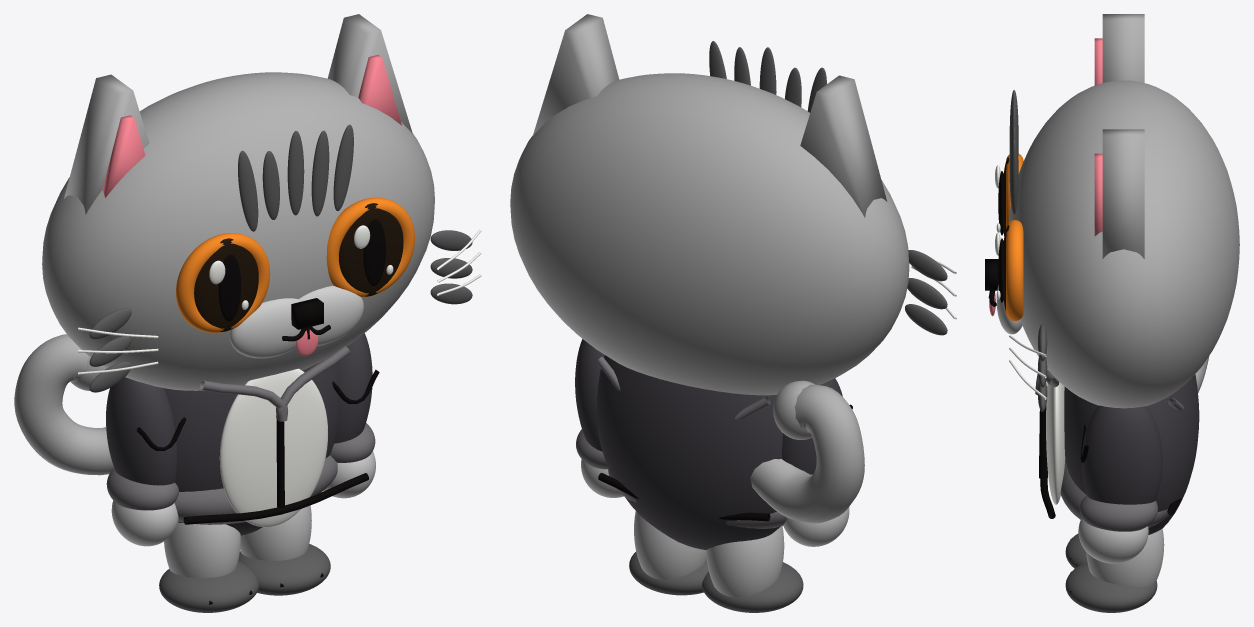
The model's file is IP_cat_from_three_views.glb.
3 views of the same model, side by side, from view 1: azimuth 30°, elevation 25°; view 2: azimuth 150°, elevation 25°; view 3: azimuth 270°, elevation 25° (orthographic). The views are drawn at different scales.
Visible parts, largest first — view 1: Fresh Head, Fresh White Chest, Fresh Tail, Fresh Sweater Body, Fresh L Sleeve, Fresh Left Ear, Fresh L Leg, Fresh Right Ear, Fresh L Foot, Fresh L Amber Eye Ring, Fresh Left Muzzle, Fresh L Eye Dark (+30 smaller); view 2: Fresh Head, Fresh Sweater Body, Fresh Tail, Fresh Left Ear, Fresh Right Ear, Fresh L Leg, Fresh R Leg, Fresh L Foot, Fresh R Sleeve, Fresh R Foot, Fresh L Paw, Fresh Tail Tip (+9 smaller); view 3: Fresh Head, Fresh R Sleeve, Fresh Sweater Body, Fresh Right Ear, Fresh Left Ear, Fresh R Foot, Fresh R Leg, Fresh R Paw, Fresh White Chest, Fresh R Cuff, Fresh R Amber Eye Ring, Fresh Sweater Hem (+9 smaller).
Part boxes in pixels (left/top/right/bottom): Fresh Head: left=42, top=72, right=434, bottom=390; Fresh White Chest: left=219, top=368, right=328, bottom=527; Fresh Tail: left=14, top=334, right=113, bottom=475; Fresh Sweater Body: left=164, top=361, right=338, bottom=535; Fresh L Sleeve: left=106, top=377, right=176, bottom=485; Fresh Left Ear: left=64, top=74, right=149, bottom=214; Fresh L Leg: left=164, top=522, right=240, bottom=578; Fresh Right Ear: left=327, top=14, right=412, bottom=134; Fresh L Foot: left=159, top=561, right=258, bottom=612; Fresh L Amber Eye Ring: left=176, top=233, right=270, bottom=332; Fresh Left Muzzle: left=230, top=298, right=300, bottom=358; Fresh L Eye Dark: left=194, top=238, right=258, bottom=331; Fresh Head: left=510, top=73, right=909, bottom=395; Fresh Sweater Body: left=596, top=355, right=782, bottom=549; Fresh Tail: left=750, top=384, right=864, bottom=523; Fresh Left Ear: left=800, top=75, right=887, bottom=217; Fresh Right Ear: left=532, top=14, right=619, bottom=136; Fresh L Leg: left=706, top=526, right=784, bottom=597; Fresh R Leg: left=634, top=511, right=706, bottom=579; Fresh L Foot: left=702, top=562, right=803, bottom=612; Fresh R Sleeve: left=575, top=339, right=604, bottom=451; Fresh R Foot: left=629, top=551, right=708, bottom=595; Fresh L Paw: left=783, top=507, right=849, bottom=546; Fresh Tail Tip: left=773, top=380, right=815, bottom=439; Fresh Head: left=1008, top=80, right=1239, bottom=408; Fresh R Sleeve: left=1081, top=405, right=1162, bottom=504; Fresh Sweater Body: left=1064, top=374, right=1199, bottom=534; Fresh Right Ear: left=1102, top=129, right=1144, bottom=258; Fresh Left Ear: left=1102, top=14, right=1144, bottom=82; Fresh R Foot: left=1065, top=562, right=1157, bottom=612; Fresh R Leg: left=1086, top=528, right=1164, bottom=586; Fresh R Paw: left=1078, top=518, right=1148, bottom=563; Fresh White Chest: left=1046, top=382, right=1065, bottom=504; Fresh R Cuff: left=1079, top=495, right=1157, bottom=531; Fresh R Amber Eye Ring: left=1006, top=220, right=1023, bottom=321; Fresh Sweater Hem: left=1060, top=459, right=1169, bottom=527.
Size of what is drawn, in the model's own units: 6.58 by 8.36 by 3.77.
